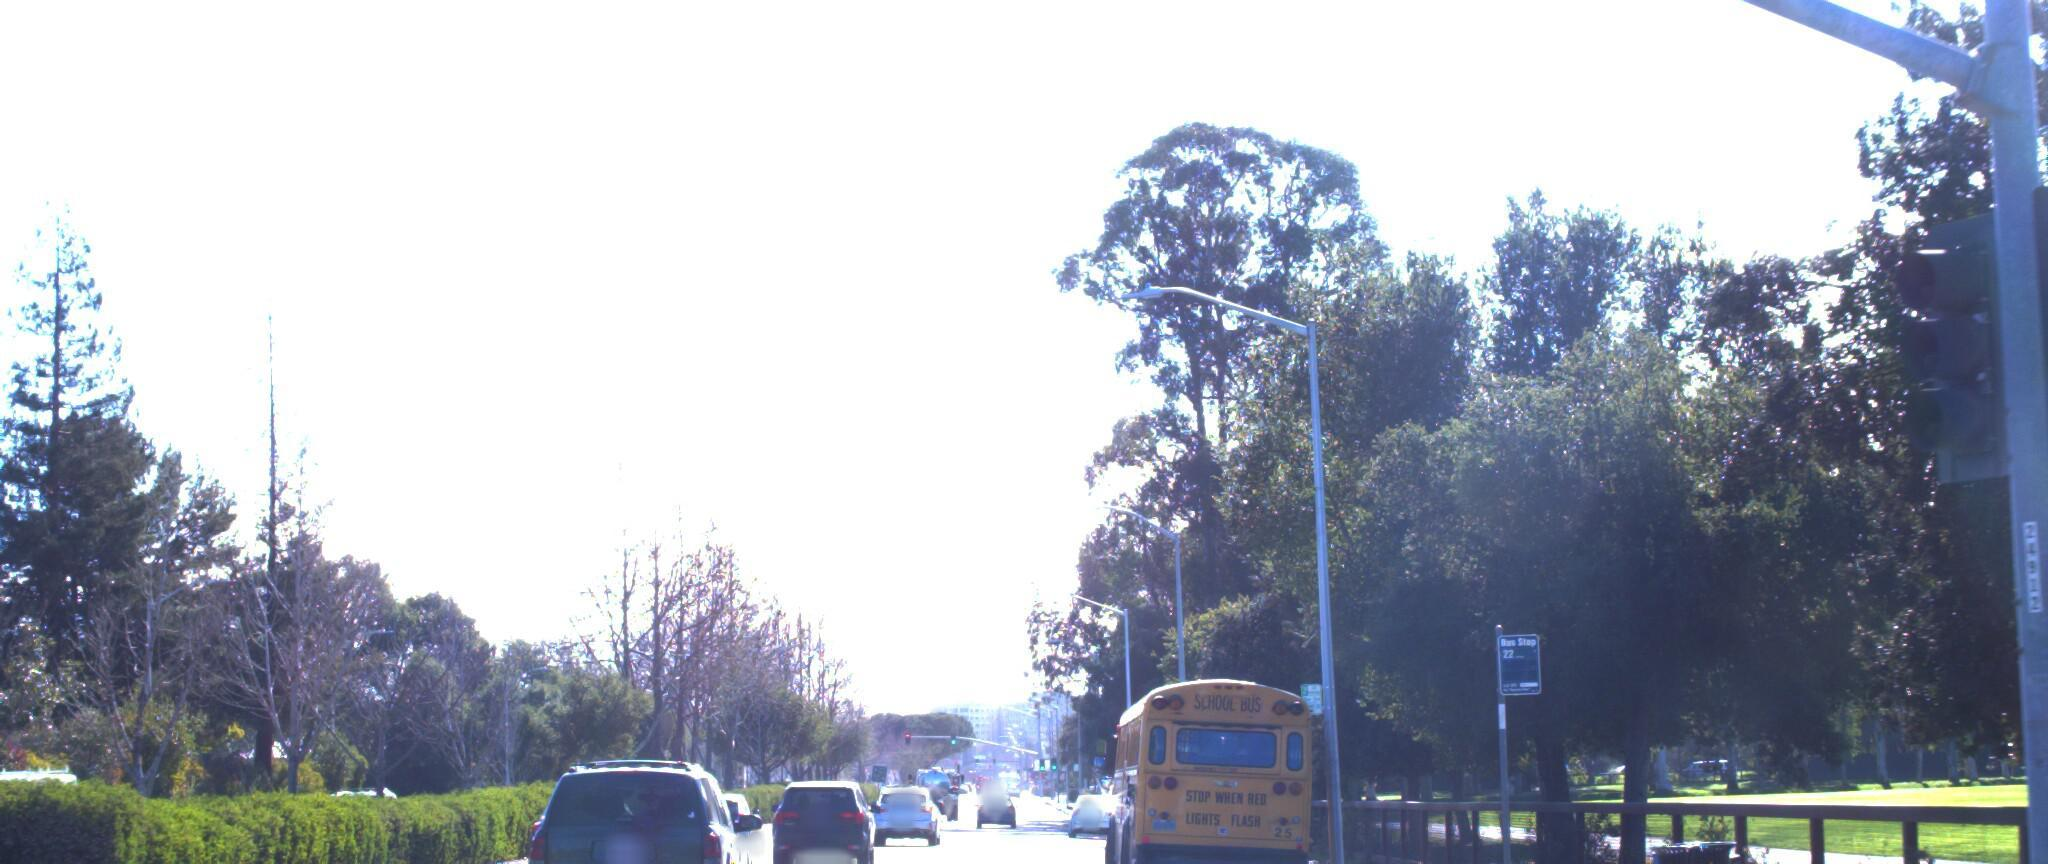bus: (1102, 670, 1337, 864)
car: (509, 749, 776, 864), (747, 786, 878, 864)
